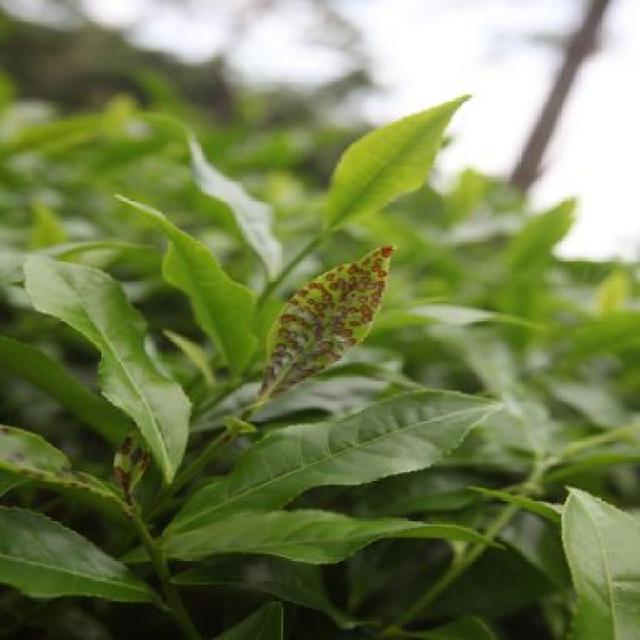Tea Mosquito bug infested leaf: (242, 236, 398, 404)
